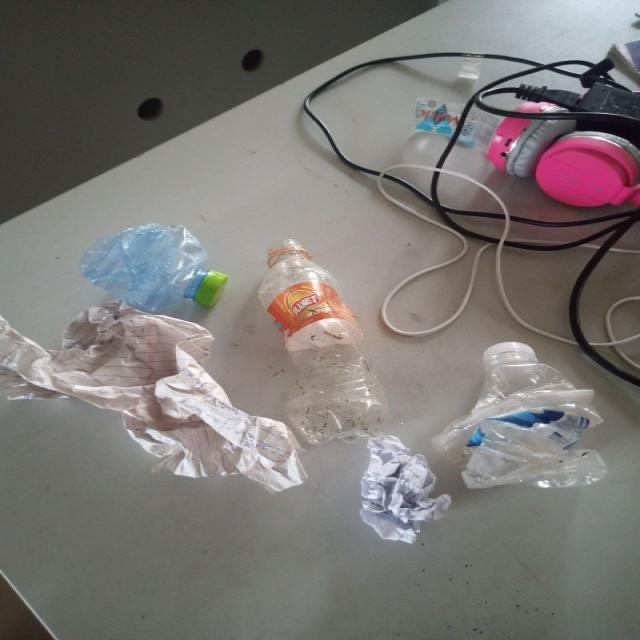Paper: (0, 304, 303, 493), (356, 433, 456, 546)
Plastic: (419, 339, 615, 497), (257, 240, 387, 442), (79, 223, 228, 315)
